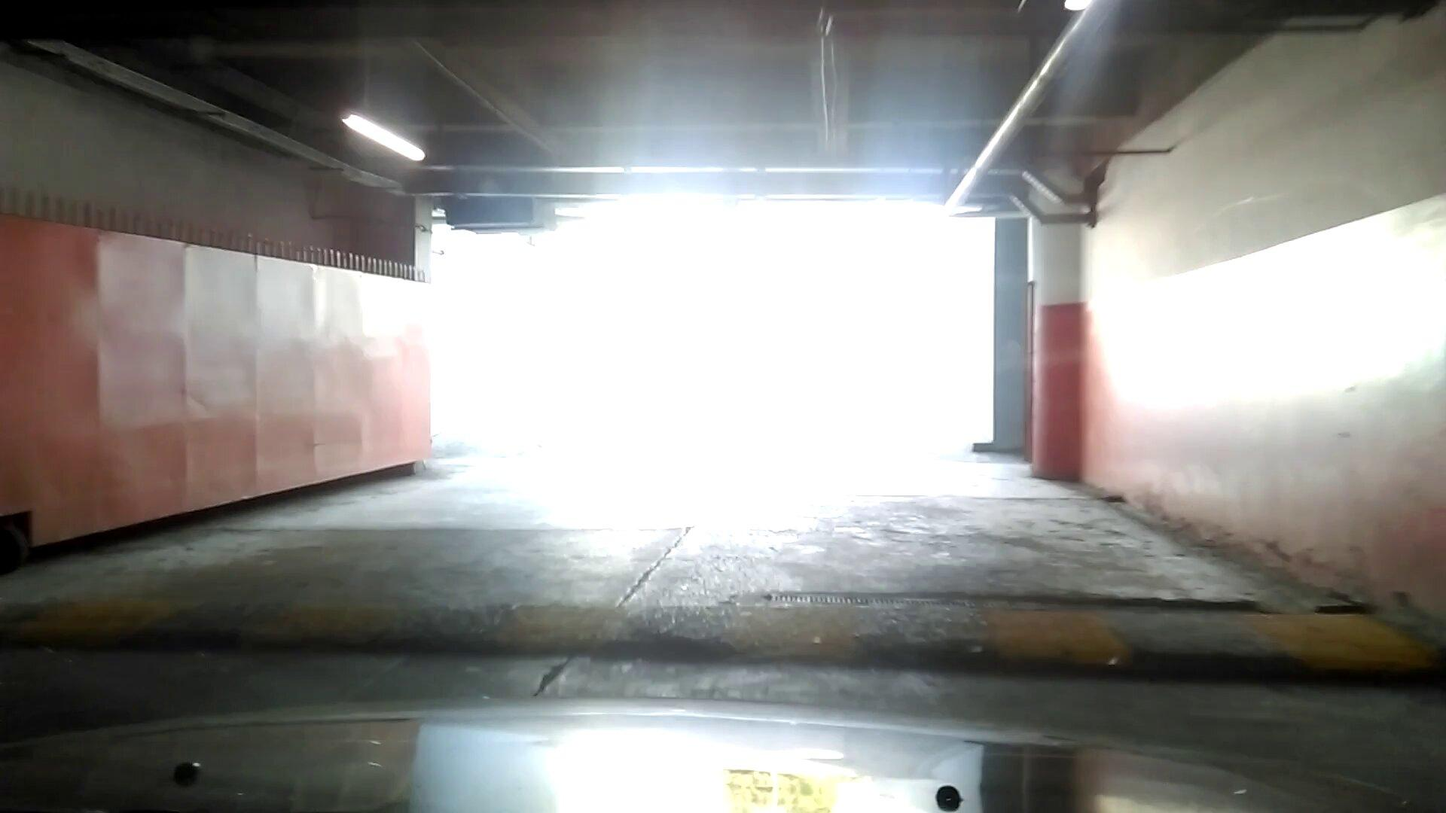Bump: (0, 589, 1445, 691)
